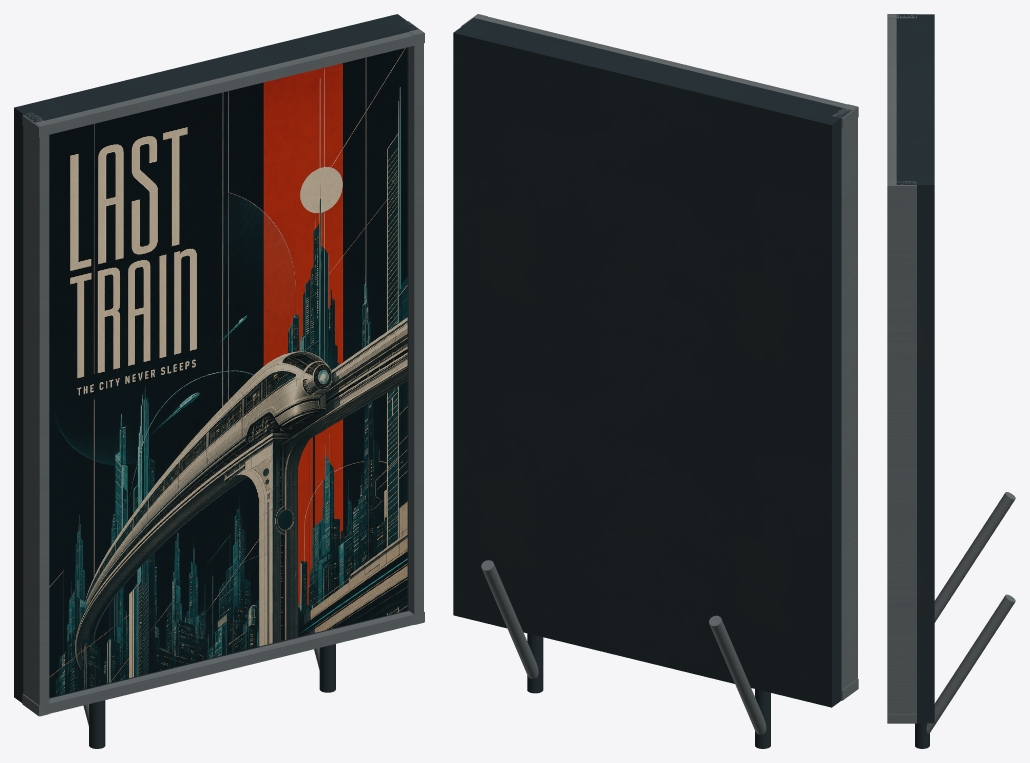
The model's file is NC_Sign_transit_LOD1.fbx.
The picture shows the model from 3 angles, left to right: view 1: azimuth 30°, elevation 25°; view 2: azimuth 150°, elevation 25°; view 3: azimuth 270°, elevation 25°; orthographic projection. The views are drawn at different scales.
Parts seen in each view (by area): view 1: NC_Sign_transit_LOD1; view 2: NC_Sign_transit_LOD1; view 3: NC_Sign_transit_LOD1.
Boxes of the visible parts, bbox=[...] form: NC_Sign_transit_LOD1: bbox=[14, 14, 424, 748]; NC_Sign_transit_LOD1: bbox=[453, 14, 858, 748]; NC_Sign_transit_LOD1: bbox=[887, 14, 1015, 748].
Bounding box in the file's own units: 300 × 484 × 94.87.
